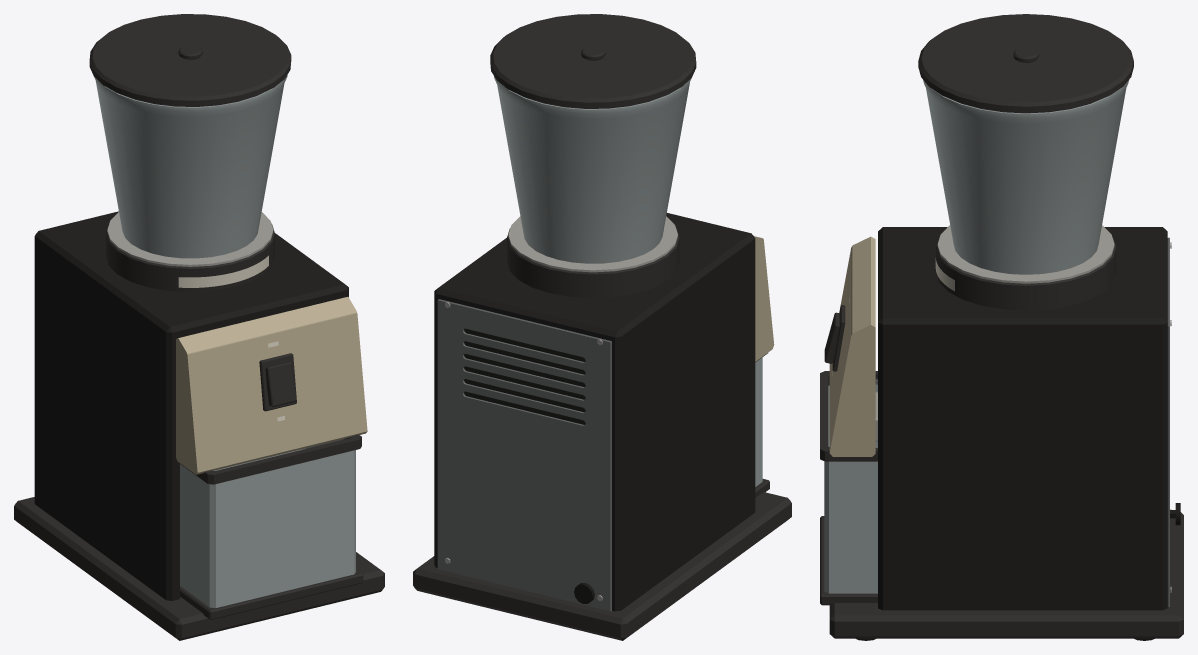
File: coffee-grinder-40adb1392076.glb
3 views of the same model, side by side, from view 1: azimuth 30°, elevation 25°; view 2: azimuth 150°, elevation 25°; view 3: azimuth 270°, elevation 25° (orthographic). The views are drawn at different scales.
Visible parts, largest first — view 1: enamel-black, glass-clear, plastic-dark, enamel-beige, brushed, decal-ink; view 2: enamel-black, metal, plastic-dark, glass-clear, rubber, brushed, enamel-beige; view 3: enamel-black, plastic-dark, glass-clear, enamel-beige, brushed, metal.
Part boxes in pixels (x1=…): enamel-black: x1=34, y1=211, x2=348, y2=600; glass-clear: x1=94, y1=75, x2=355, y2=607; plastic-dark: x1=14, y1=14, x2=384, y2=640; enamel-beige: x1=176, y1=297, x2=367, y2=474; brushed: x1=107, y1=212, x2=273, y2=266; decal-ink: x1=178, y1=255, x2=284, y2=421; enamel-black: x1=434, y1=213, x2=755, y2=611; metal: x1=437, y1=299, x2=611, y2=611; plastic-dark: x1=413, y1=14, x2=791, y2=640; glass-clear: x1=494, y1=76, x2=762, y2=486; rubber: x1=464, y1=328, x2=585, y2=424; brushed: x1=445, y1=216, x2=677, y2=600; enamel-beige: x1=754, y1=236, x2=774, y2=361; enamel-black: x1=878, y1=227, x2=1167, y2=610; plastic-dark: x1=820, y1=14, x2=1183, y2=638; glass-clear: x1=824, y1=80, x2=1128, y2=593; enamel-beige: x1=829, y1=236, x2=875, y2=456; brushed: x1=875, y1=225, x2=1171, y2=592; metal: x1=1167, y1=237, x2=1169, y2=606.
Size of the model in its own units: 0.16 by 0.37 by 0.226.
